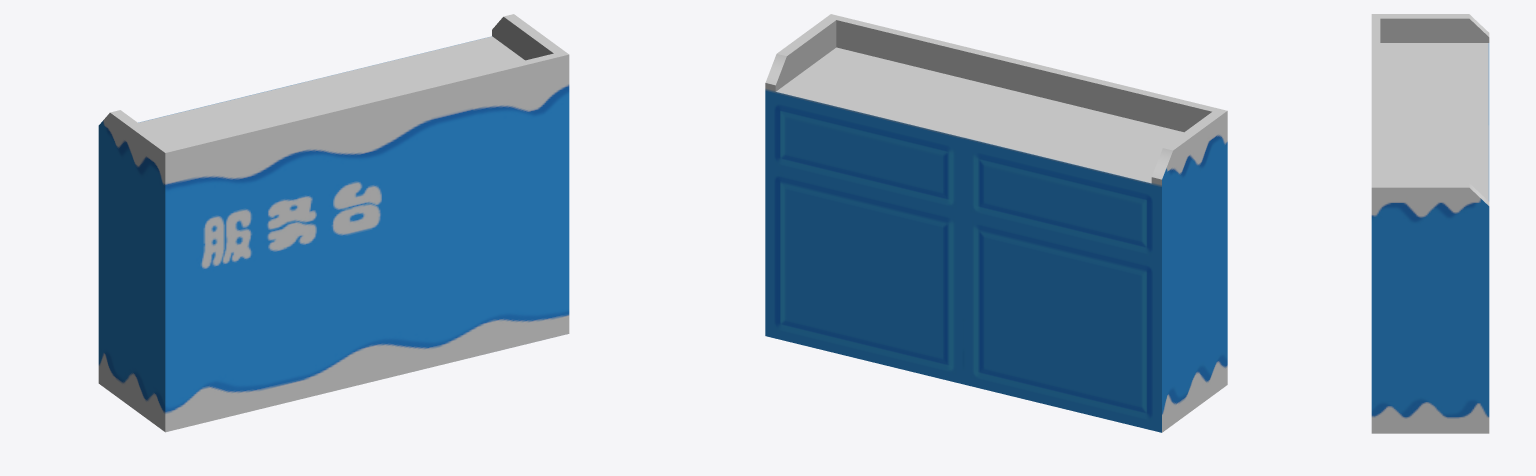
File: cashier.DAE
3 renders of one model, left to right at view 1: azimuth 30°, elevation 25°; view 2: azimuth 150°, elevation 25°; view 3: azimuth 270°, elevation 25°, orthographic. The views are drawn at different scales.
Parts seen in each view (by area): view 1: cashier; view 2: cashier; view 3: cashier.
Part boxes in pixels (x1=…): cashier: x1=98, y1=14, x2=569, y2=432; cashier: x1=765, y1=14, x2=1227, y2=432; cashier: x1=1371, y1=14, x2=1489, y2=433.
Size of the model in its own units: 2010 by 672 by 1000.
2 materials, 2 textured.
